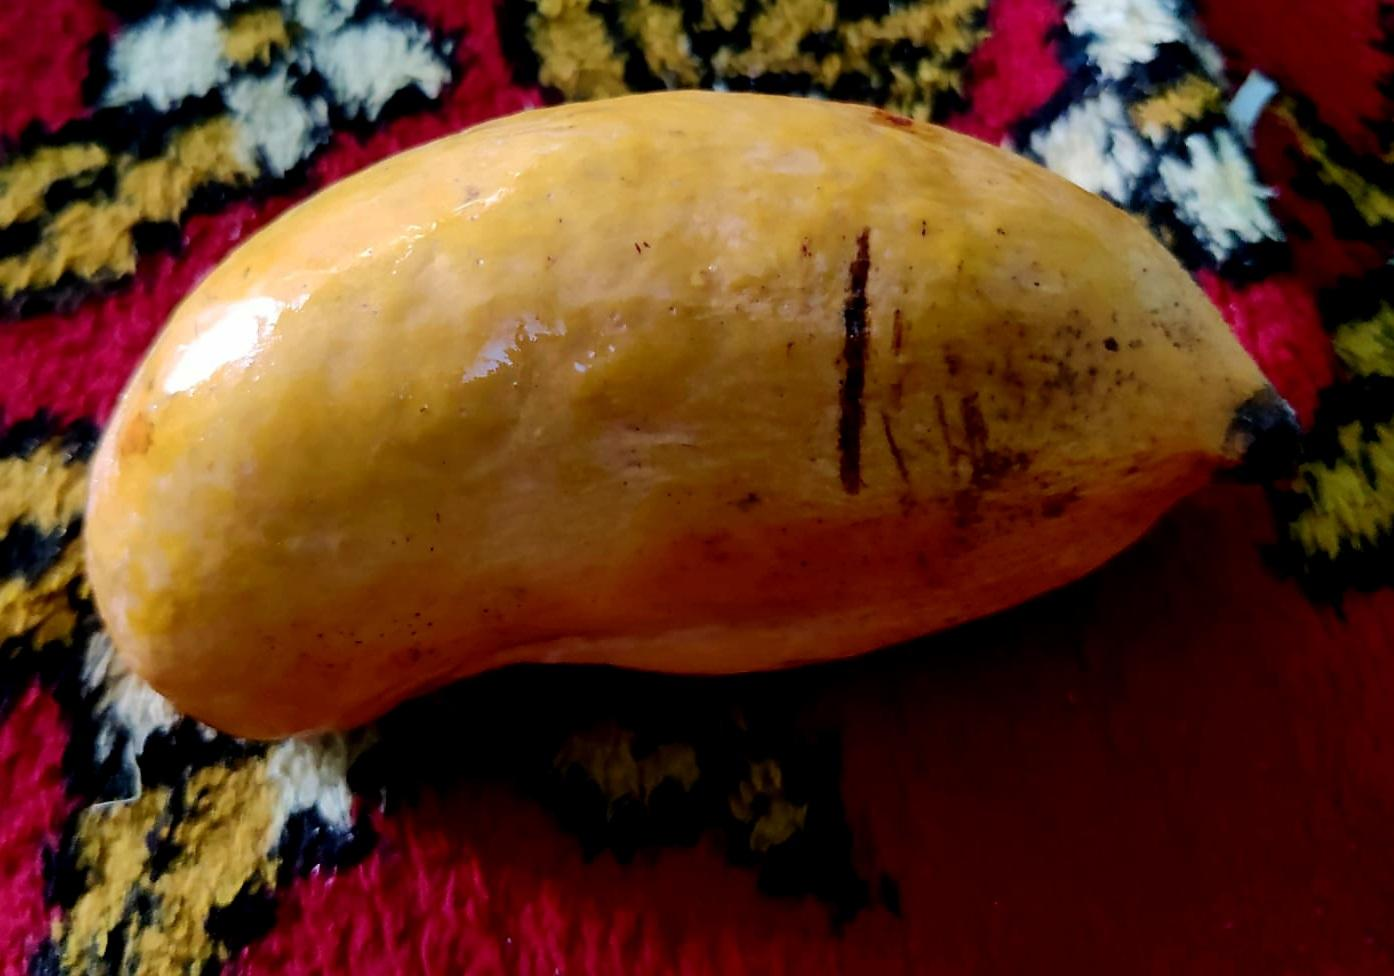mango: (81, 86, 1302, 741)
